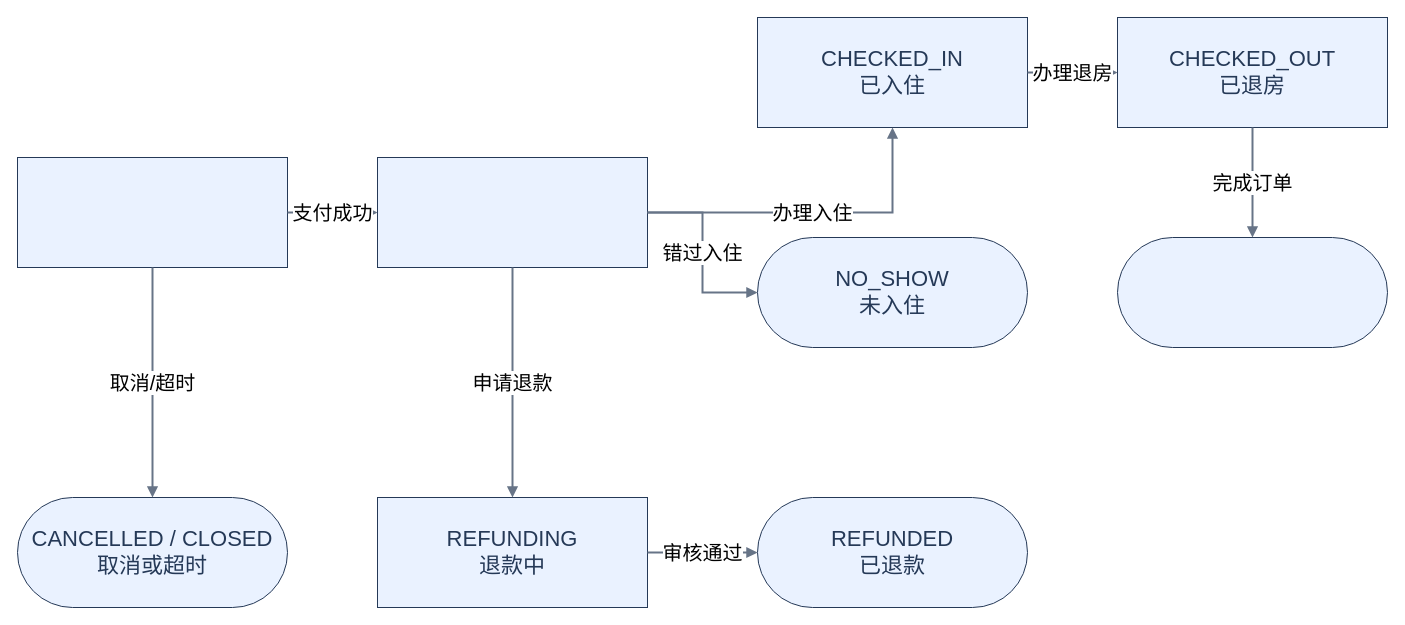
Image size: 1405x625. Some labels were removed from this diagram. The shapes that lost their labels are listed below. From the top down, each one's box as (x1, y1, x2, y2) in pixels, then its label:
(16, 156, 288, 268): WAIT_PAY 待支付
(376, 156, 648, 268): CONFIRMED 已确认
(1116, 236, 1388, 348): COMPLETED 已完成
